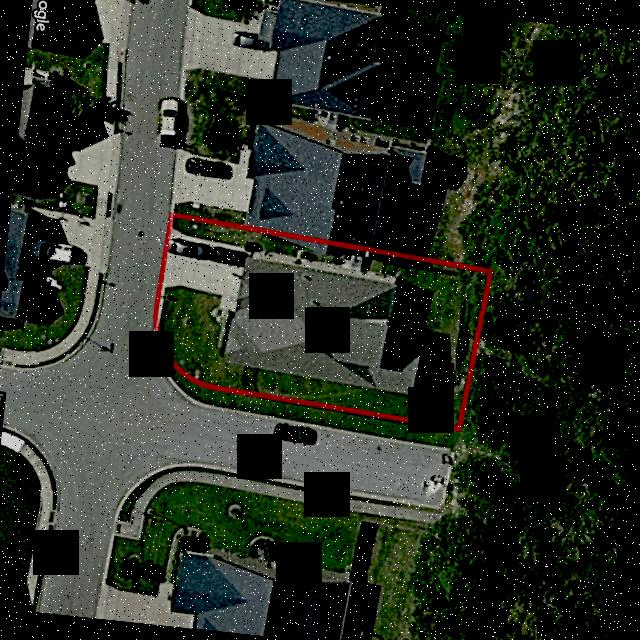Driveway: (165, 229, 246, 310)
Extra Lawn: (161, 356, 460, 447)
House: (224, 248, 422, 395)
Sidewalk: (215, 308, 230, 347)
